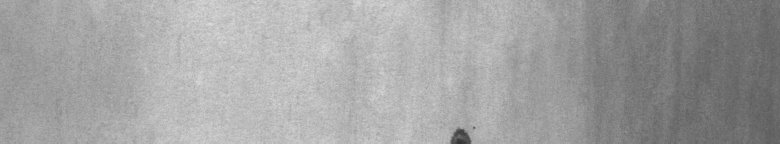fi: (445, 120, 476, 136)
